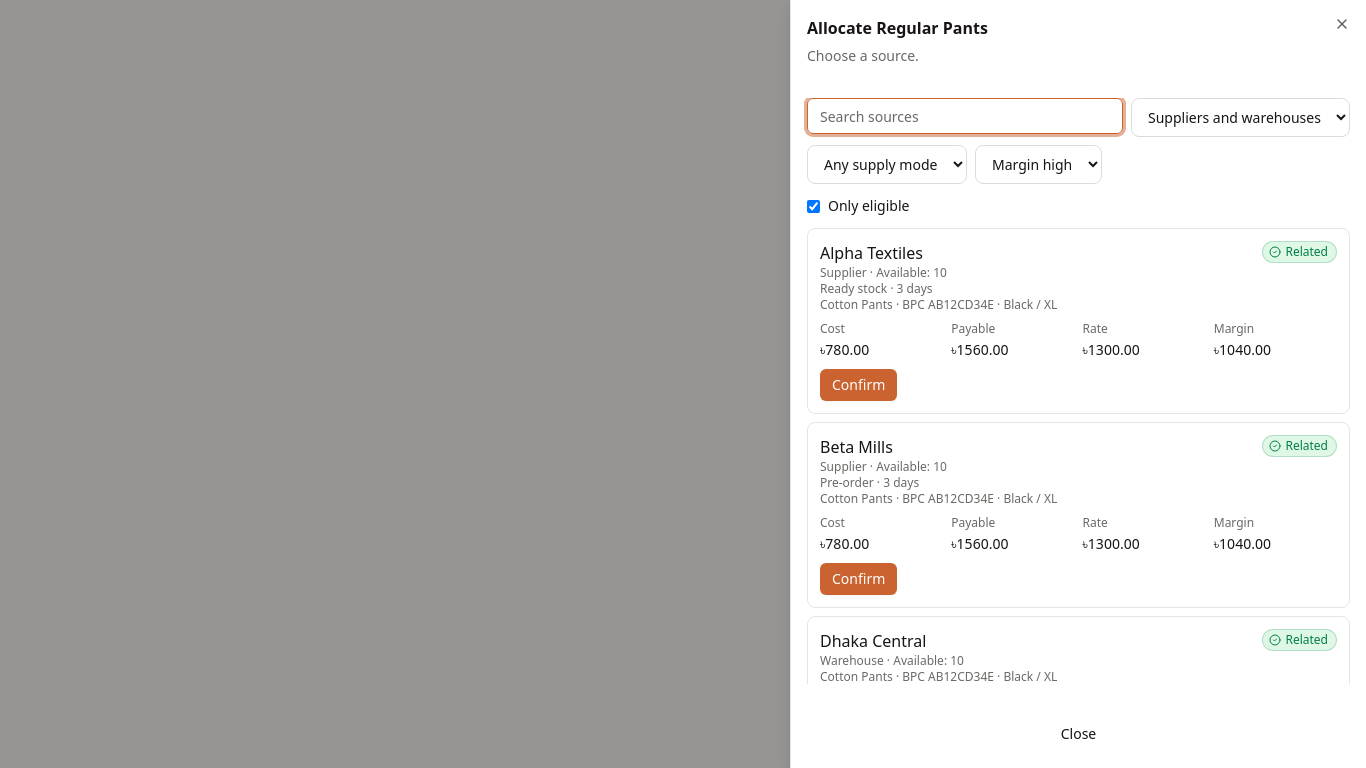
the allocation panel › filters between Supplier and Warehouse sources, and by supply mode
Expected: the text "Dhaka Central" is shown, [820,630,926,652]
Step 1. Select "Warehouse" in the dropdown named "Source type" → (1240, 118), box [1131,98,1350,137]
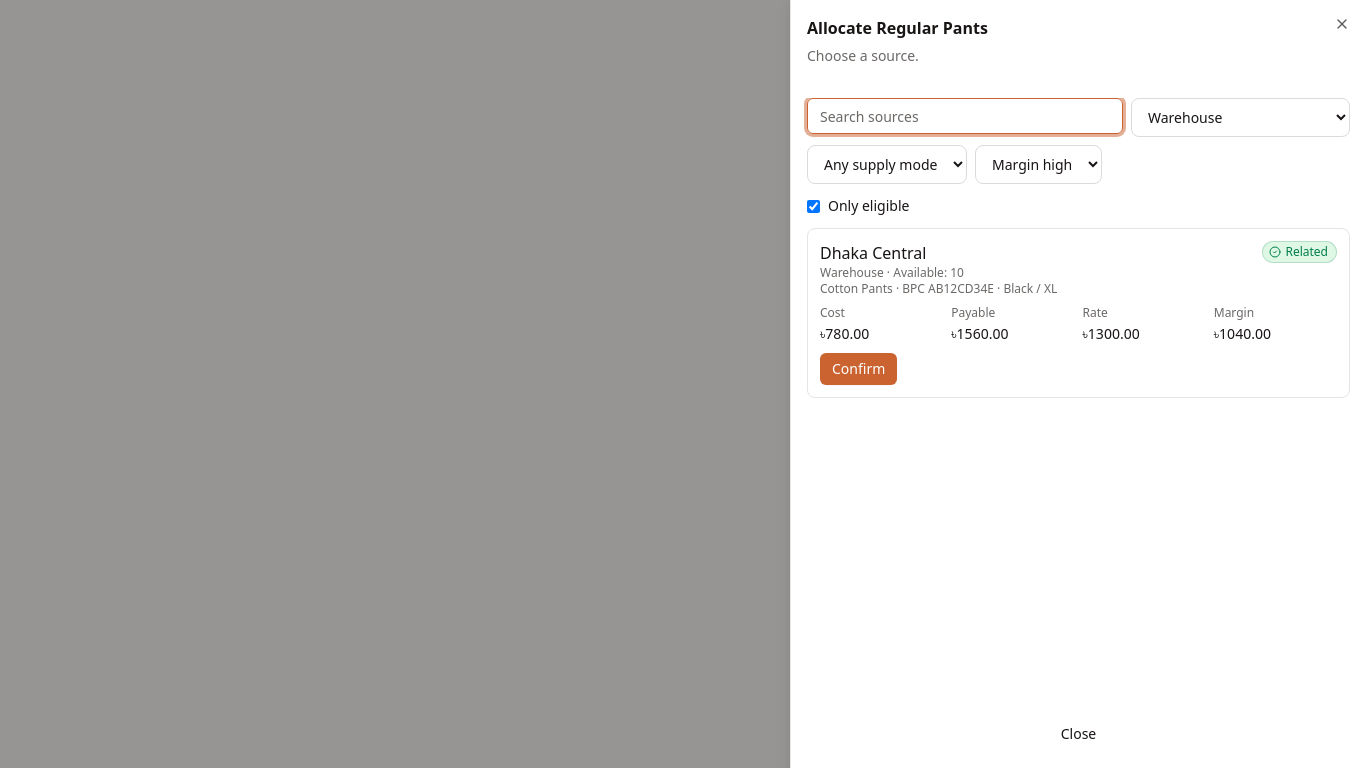
Expected: the text "Dhaka Central" is shown, [820,242,926,264]
Expected: the text "Alpha Textiles" is gone
Step 2. Select "Suppliers and warehouses" in the dropdown named "Source type" → (1240, 118), box [1131,98,1350,137]
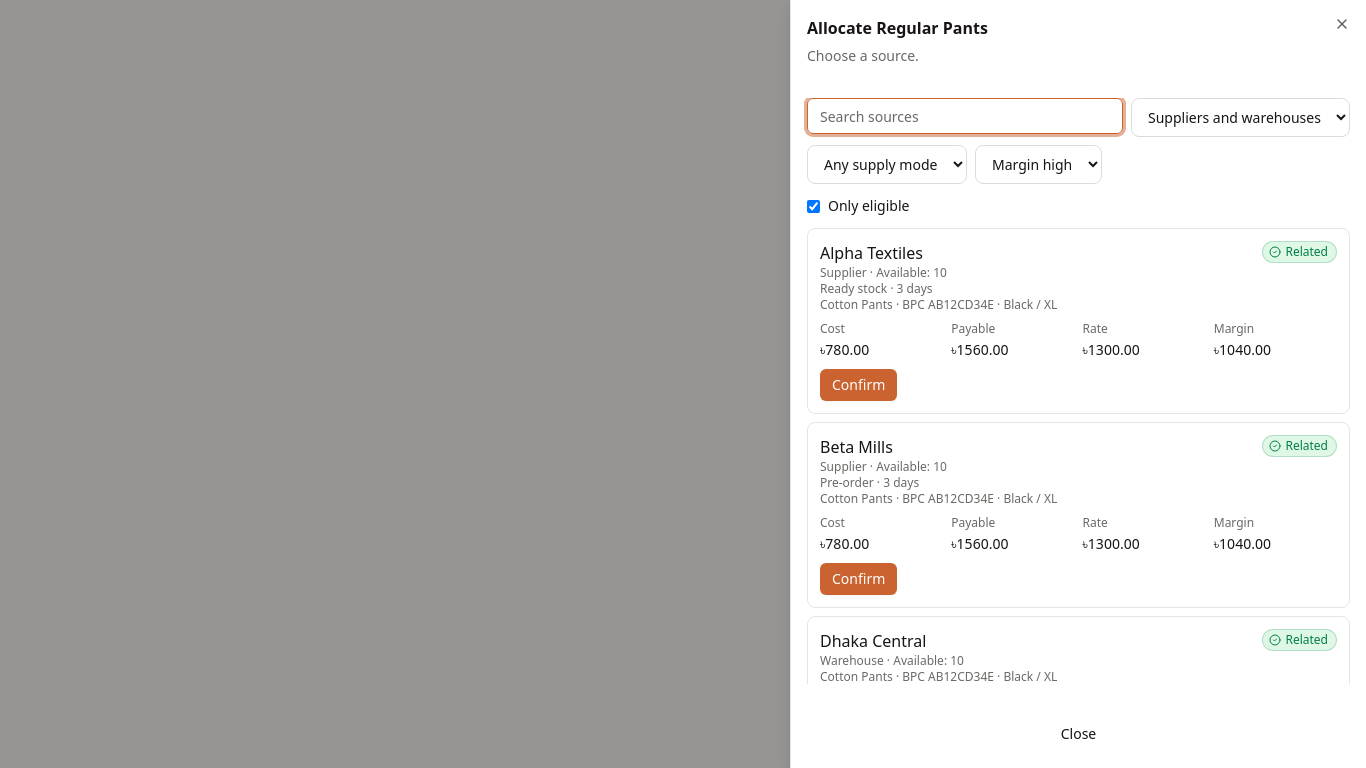
Step 3. Select "Pre-order" in the dropdown named "Supply mode" → (887, 164), box [807,145,967,184]
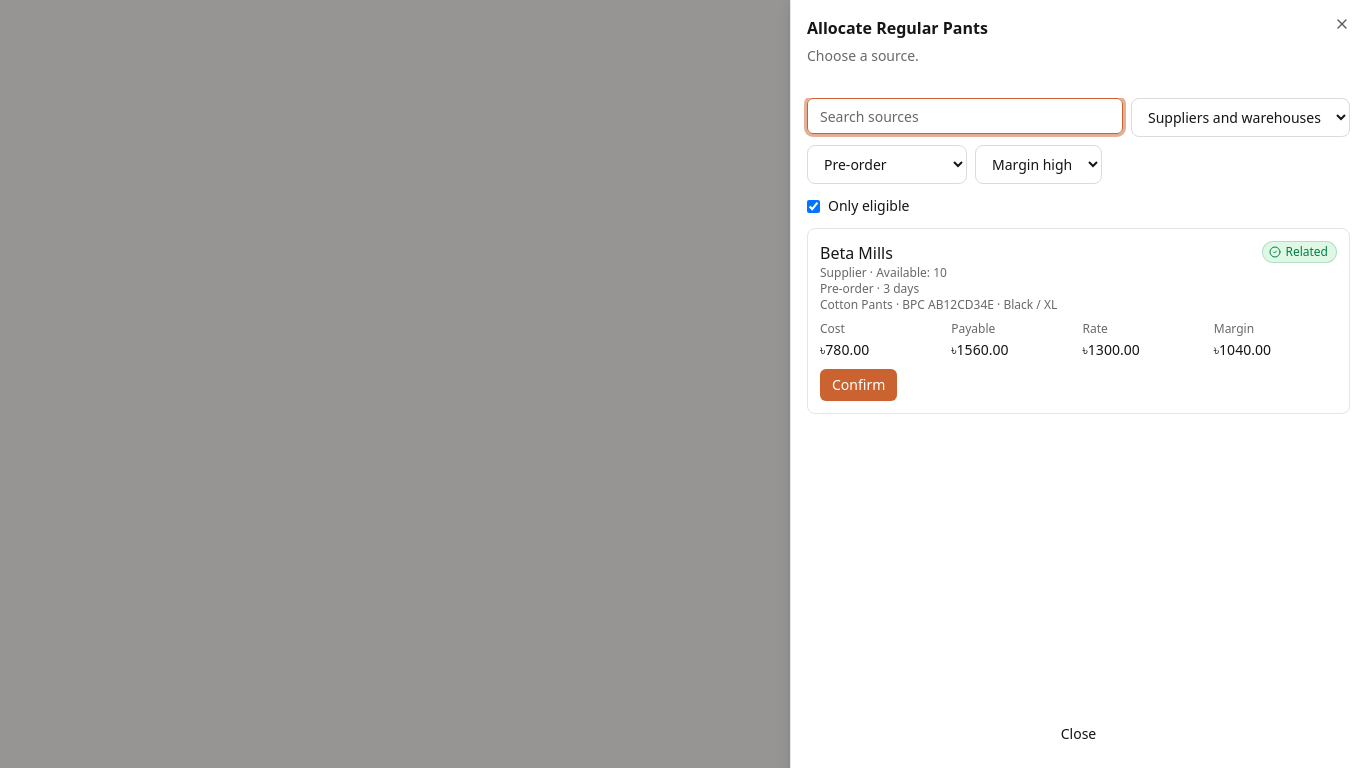
Expected: the text "Beta Mills" is shown, [820,242,893,264]
Expected: the text "Alpha Textiles" is gone
Expected: the text "Dhaka Central" is gone
